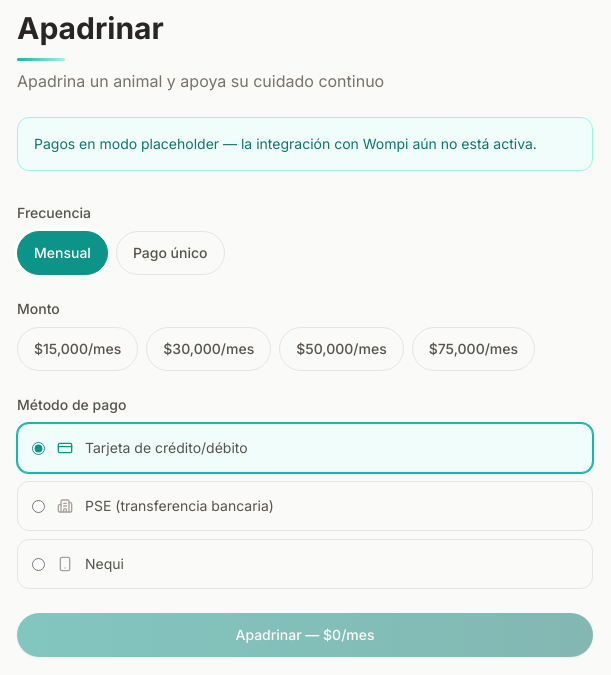
Test: CheckoutApadrinamientoPage › selects preset amount when clicked
Click the button "$30,000/mes".
click(209, 349)  # box [146, 327, 271, 371]
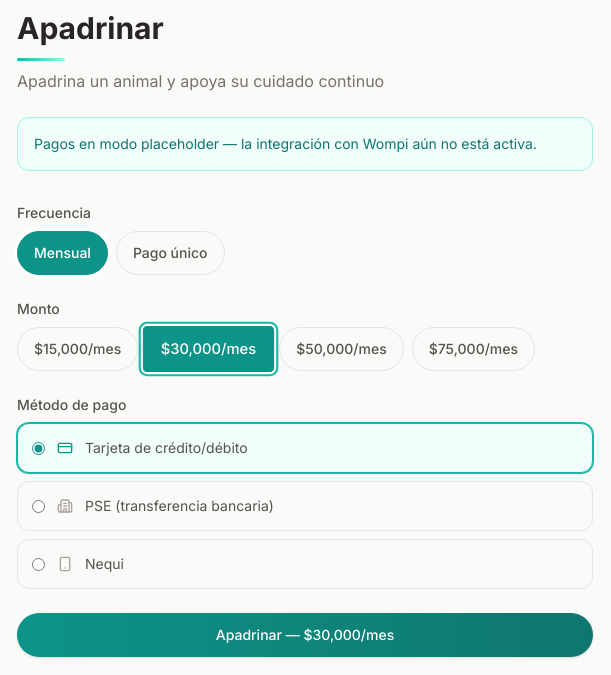
Now the button "Apadrinar — $30,000/mes" is shown, box [17, 613, 593, 657]
